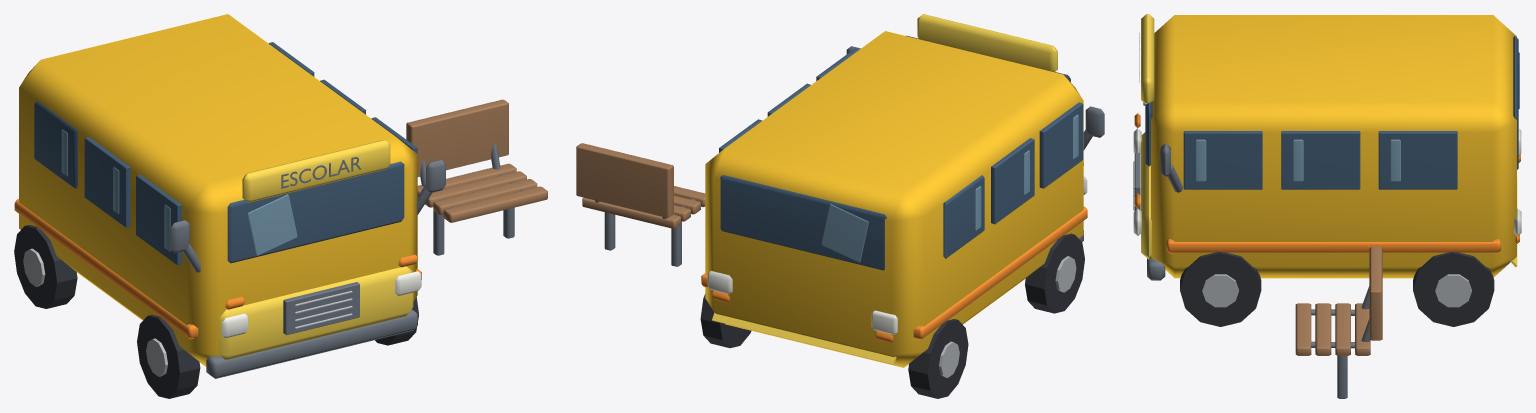
File: SchoolBus.fbx
The picture shows the model from 3 angles, left to right: view 1: azimuth 30°, elevation 25°; view 2: azimuth 150°, elevation 25°; view 3: azimuth 270°, elevation 25°; orthographic projection. The views are drawn at different scales.
Visible parts, largest first — view 1: Carroceria amarela, Banco, Para-brisa, Frente do capô, Reflexo da janela, Letreiro frontal, Para-choque, Cubo da roda.001, Cubo da roda, Grade do radiador, Janela lateral.002, Faixa lateral (+7 smaller); view 2: Carroceria amarela, Banco, Para-brisa.001, Reflexo da janela, Letreiro frontal, Cubo da roda.001, Cubo da roda, Janela lateral.002, Faixa lateral, Reflexo no para-brisa.001, Linha da estrada.001, Cubo da roda.003 (+4 smaller); view 3: Carroceria amarela, Reflexo da janela.005, Banco, Cubo da roda.002, Cubo da roda.003, Faixa lateral, Letreiro frontal, Frente do capô, Para-brisa.001, Para-brisa, Grade do radiador, Para-choque.
Boxes of the visible parts, x1,y1,x2,y2 form: Carroceria amarela: (19,14,417,366); Banco: (406,99,547,255); Para-brisa: (227,161,404,263); Frente do capô: (218,266,413,359); Reflexo da janela: (61,129,181,265); Letreiro frontal: (242,140,390,202); Para-choque: (206,309,417,378); Cubo da roda.001: (14,225,77,308); Cubo da roda: (137,314,200,398); Grade do radiador: (283,282,359,335); Janela lateral.002: (34,100,77,188); Faixa lateral: (14,199,421,339); Carroceria amarela: (705,31,1083,367); Banco: (576,143,705,266); Para-brisa.001: (720,175,886,270); Reflexo da janela: (975,102,1083,230); Letreiro frontal: (917,14,1057,71); Cubo da roda.001: (908,319,968,398); Cubo da roda: (1025,233,1084,313); Janela lateral.002: (943,175,984,258); Faixa lateral: (701,206,1087,339); Reflexo no para-brisa.001: (821,204,868,262); Linha da estrada.001: (712,312,896,364); Cubo da roda.003: (700,294,751,348); Carroceria amarela: (1151,15,1516,278); Reflexo da janela.005: (1183,131,1457,189); Banco: (1295,247,1382,398); Cubo da roda.002: (1180,252,1261,326); Cubo da roda.003: (1413,252,1494,326); Faixa lateral: (1166,239,1500,253); Letreiro frontal: (1141,14,1154,104); Frente do capô: (1141,132,1151,259); Para-brisa.001: (1513,36,1518,169); Para-brisa: (1145,102,1152,166); Grade do radiador: (1133,153,1140,210); Para-choque: (1147,257,1165,280).
Size of the model in its own units: 370 by 190 by 295.
